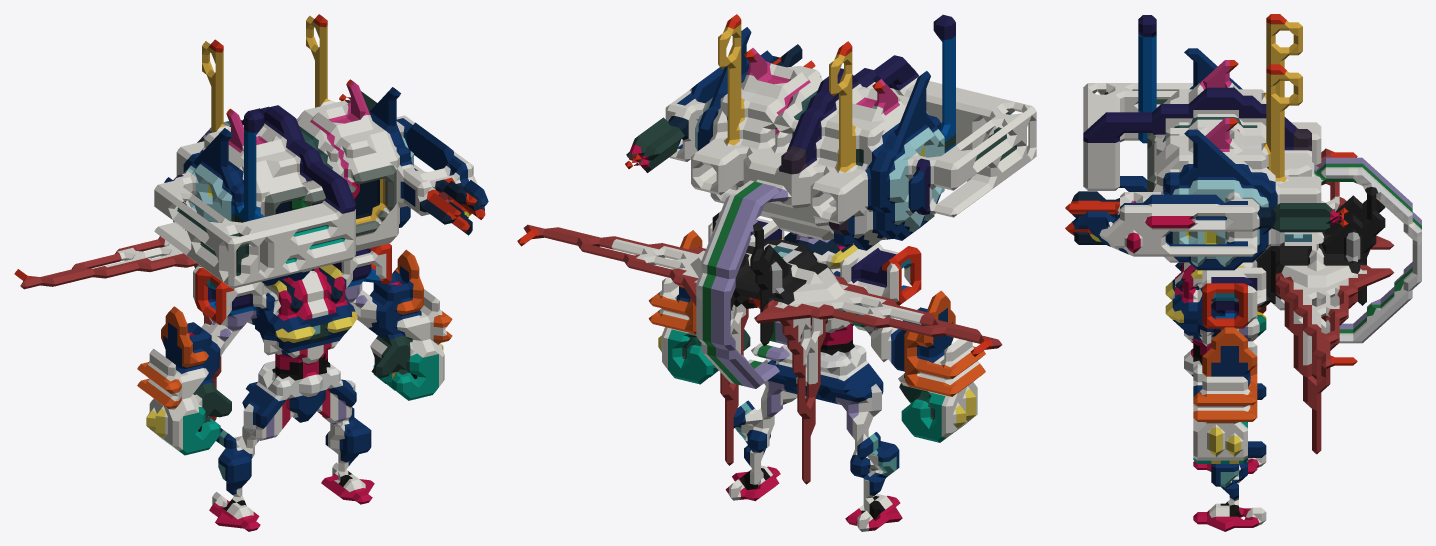
Rendered from project1.glb.
3 views of the same model, side by side, from view 1: azimuth 30°, elevation 25°; view 2: azimuth 150°, elevation 25°; view 3: azimuth 270°, elevation 25° (orthographic). The views are drawn at different scales.
Visible parts, largest first — view 1: project1mc; view 2: project1mc; view 3: project1mc.
Boxes of the visible parts, <box> form: project1mc: <box>14,14,488,531</box>; project1mc: <box>517,14,1036,531</box>; project1mc: <box>1065,14,1421,531</box>.
Bounding box in the file's own units: 5.6 × 5.5 × 3.9.
